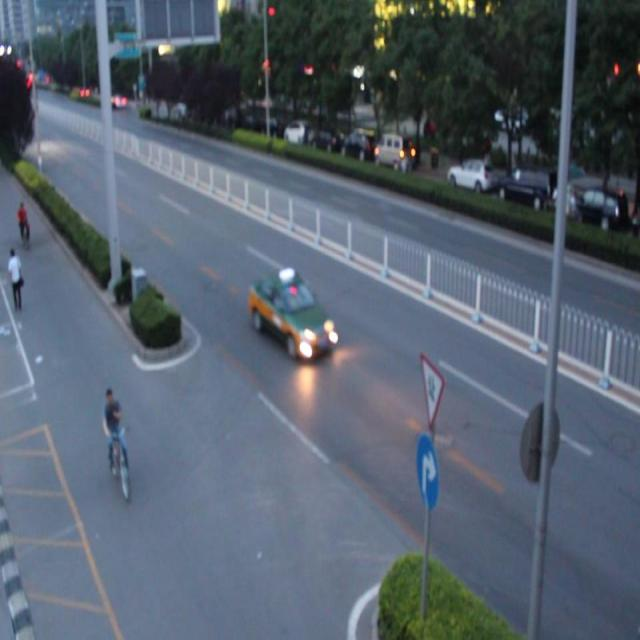car: (248, 269, 334, 362)
